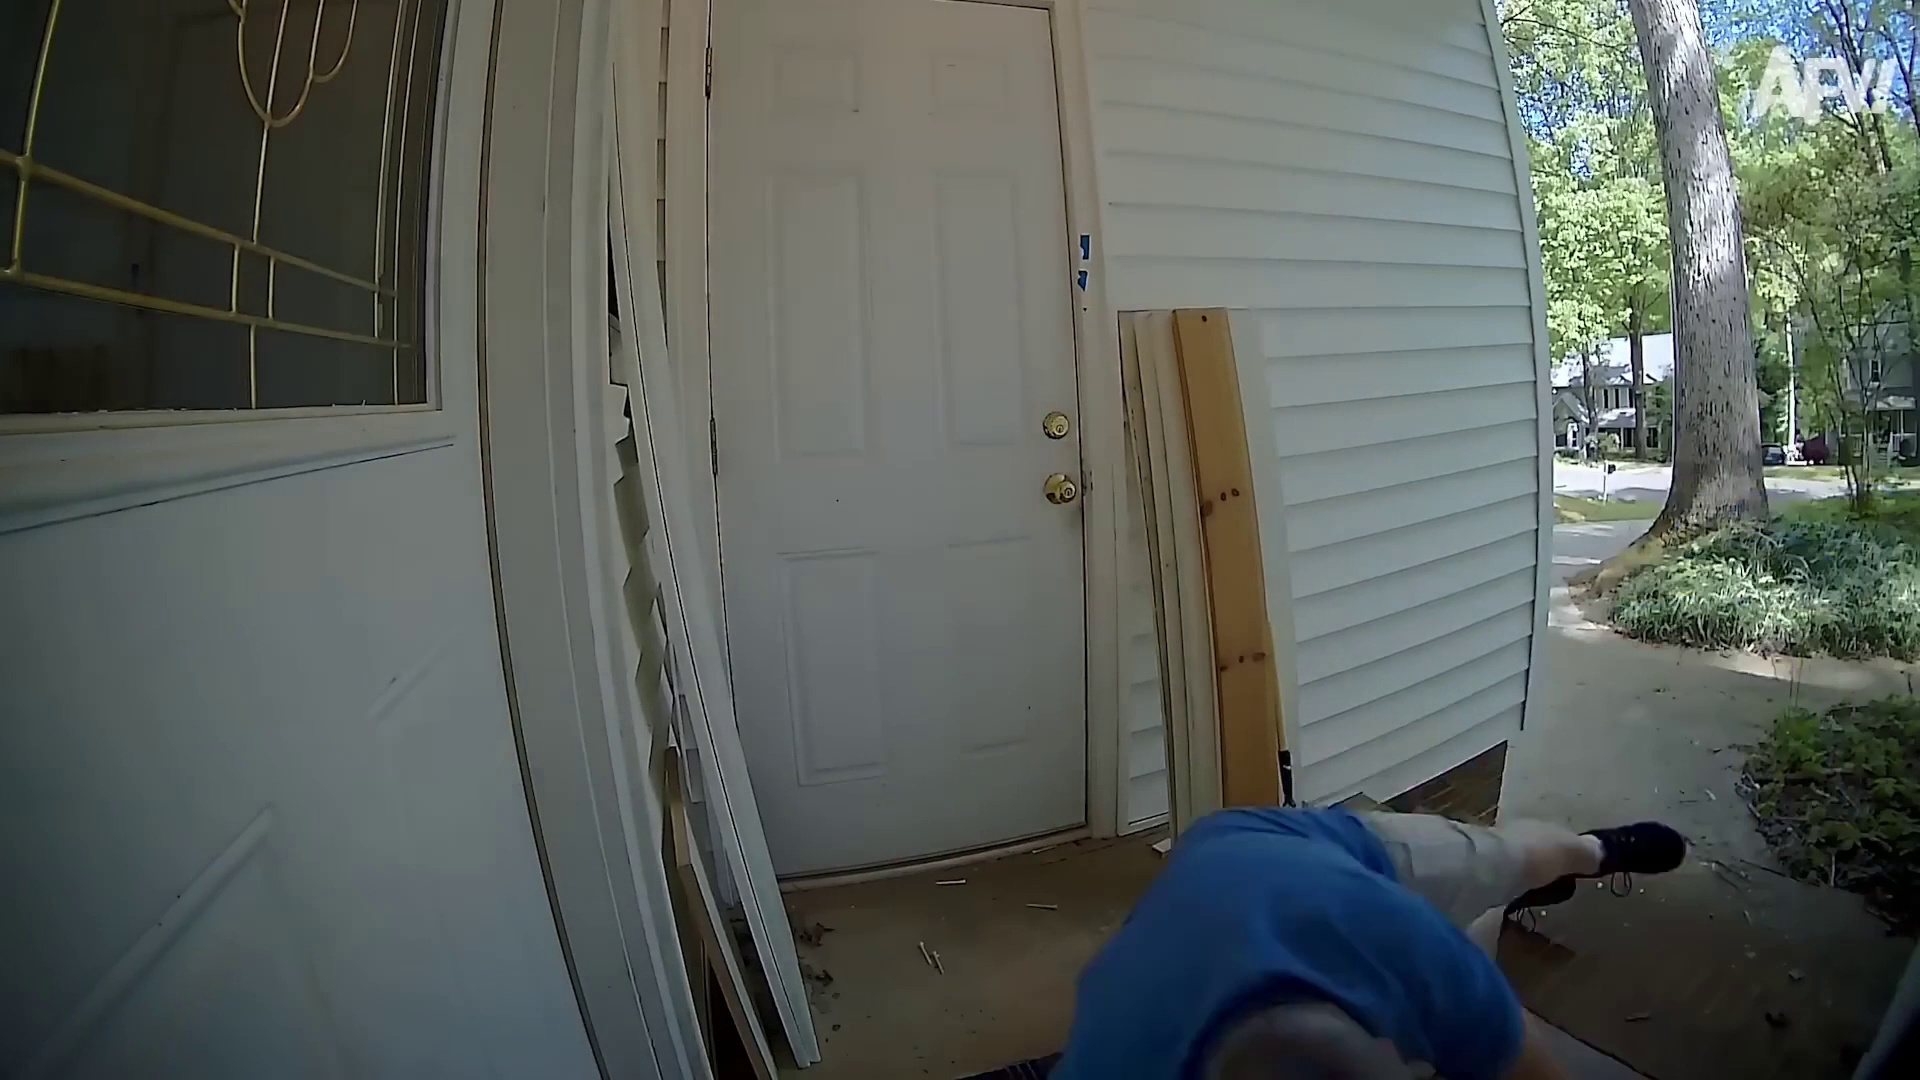fall: (969, 728, 1776, 1080)
